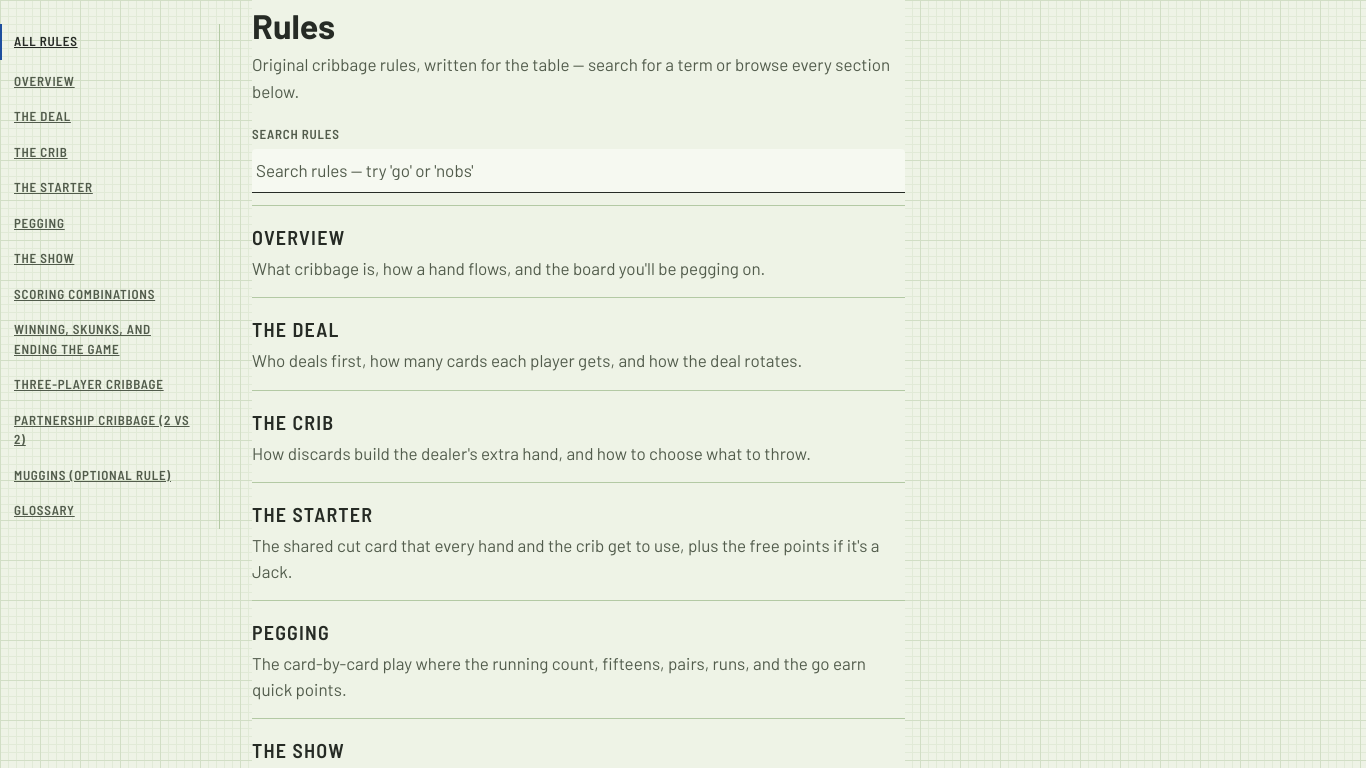
Test: RulesIndexPage › shows a no-results message for a query nothing matches
Type "xyzxyzxyz" into the search field with placeholder "Search rules — try 'go' or 'nobs'".
click(579, 171); type("xyzxyzxyz")  # box [252,149,905,193]
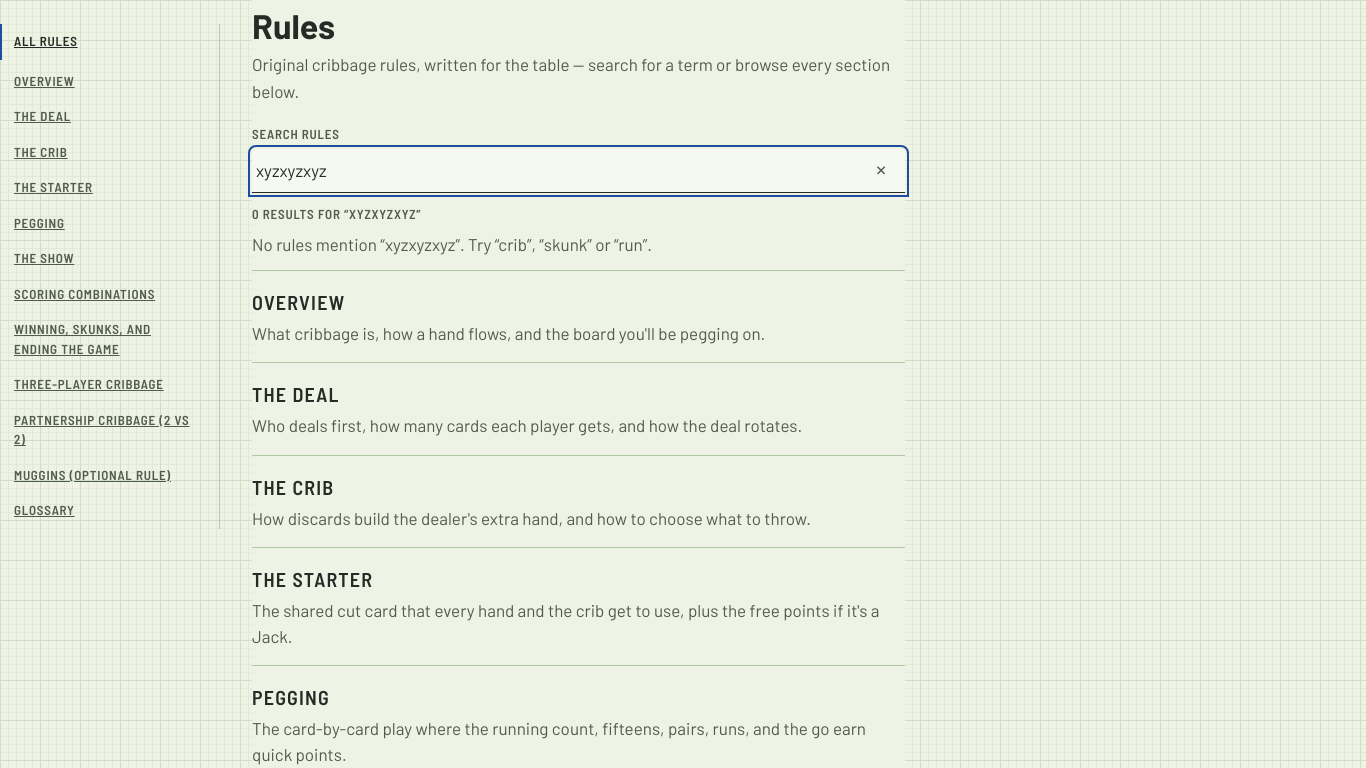
Now the text "No rules mention “xyzxyzxyz”. Try “crib”, “skunk” or “run”." is shown, box [252,234,652,254]
